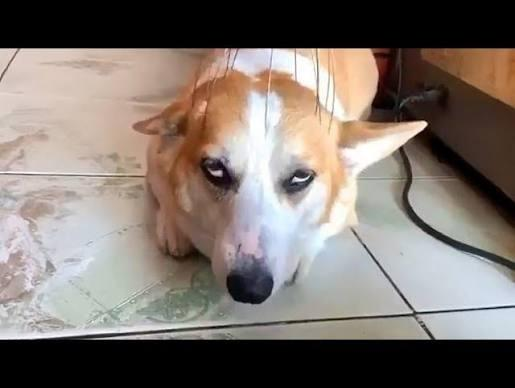adult_dog: (128, 45, 429, 306)
